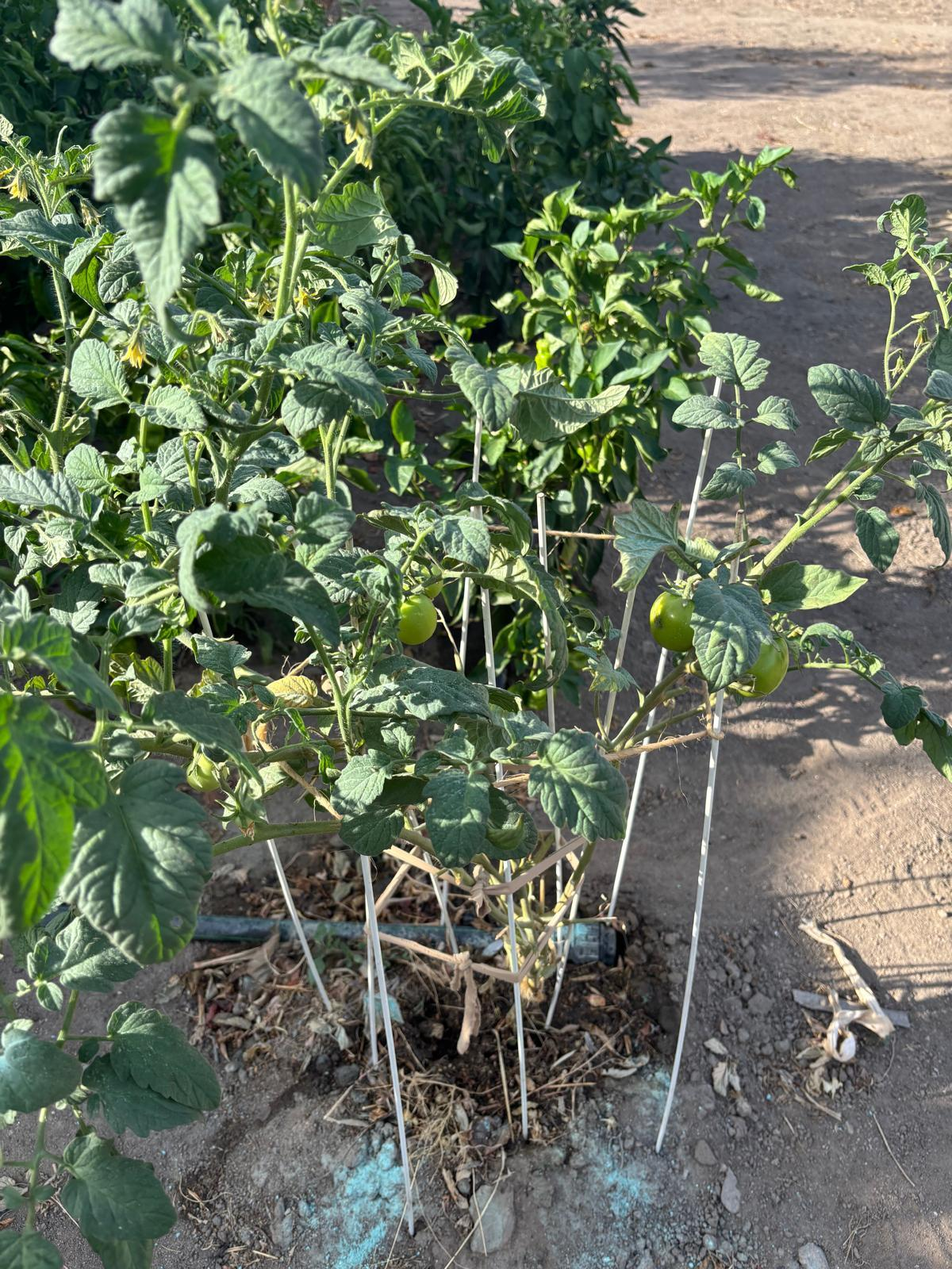tomatera: (106, 209, 829, 1056)
